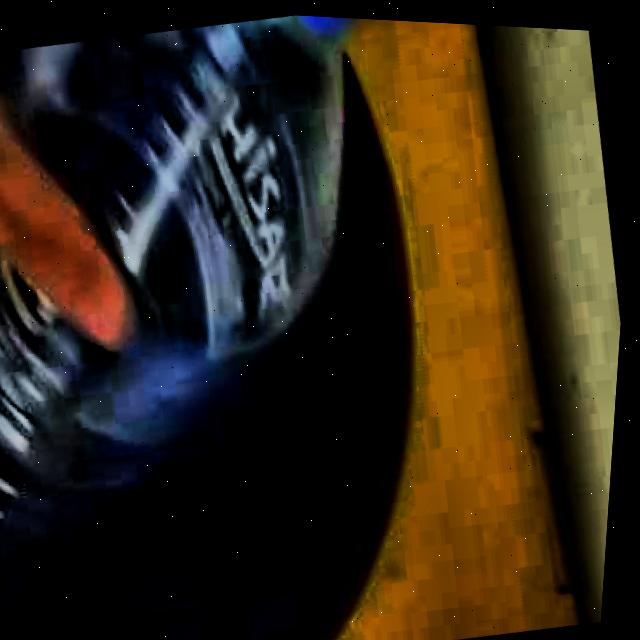plastic: (0, 12, 353, 539)
